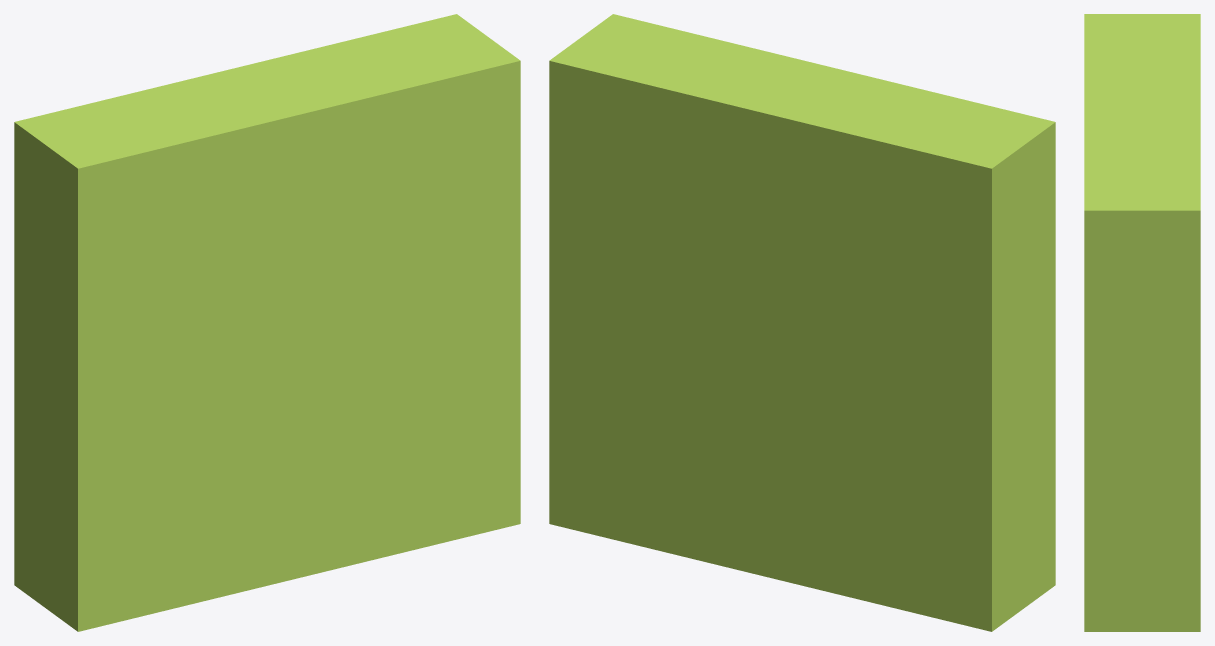
3 renders of one model, left to right at view 1: azimuth 30°, elevation 25°; view 2: azimuth 150°, elevation 25°; view 3: azimuth 270°, elevation 25°, orthographic. The views are drawn at different scales.
Parts seen in each view (by area): view 1: tile; view 2: tile; view 3: tile.
Boxes of the visible parts, x1,y1,x2,y2 form: tile: (14,14,520,631); tile: (549,14,1055,631); tile: (1084,14,1200,631).
Size of the model in its own units: 16 by 16 by 4.
